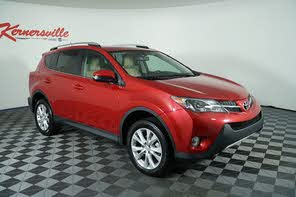Toyota RAV-4: (26, 41, 265, 179)
